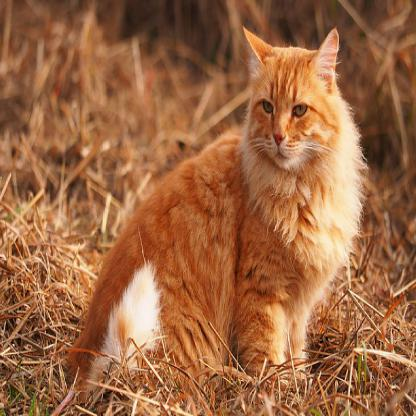cat: (77, 25, 370, 375)
